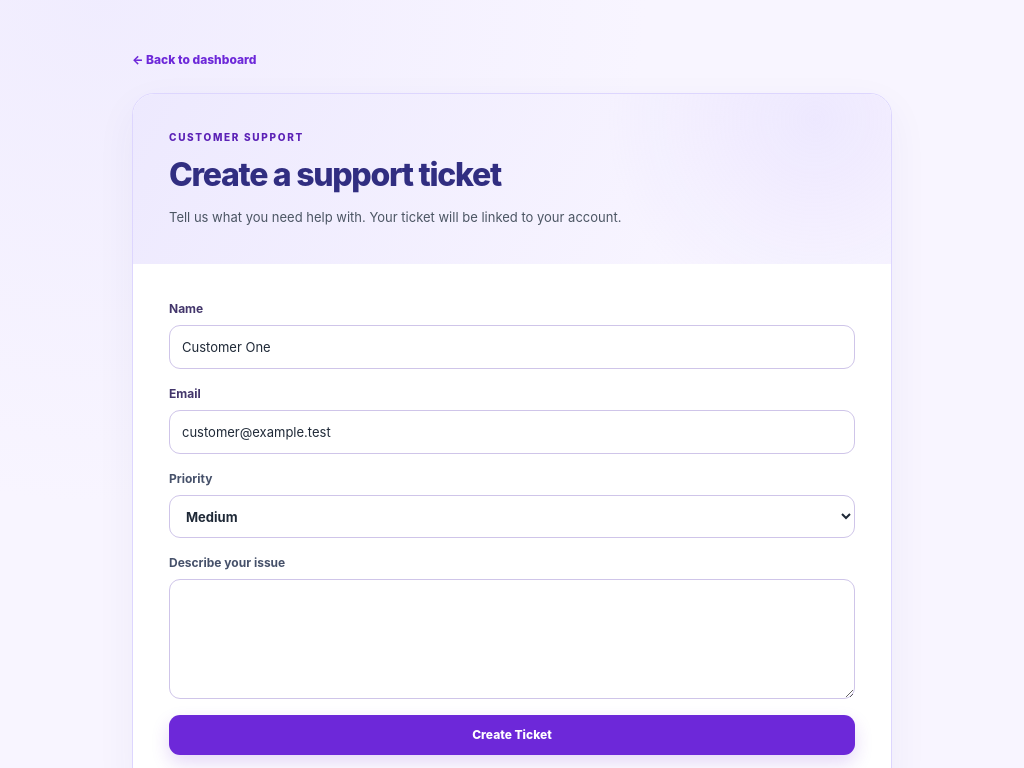
Scenario: Ticket creation page › links to the created ticket if saving its initial comment fails
In the text box labelled "Describe your issue": (512, 639) [169,579,855,699], type "I need assistance."
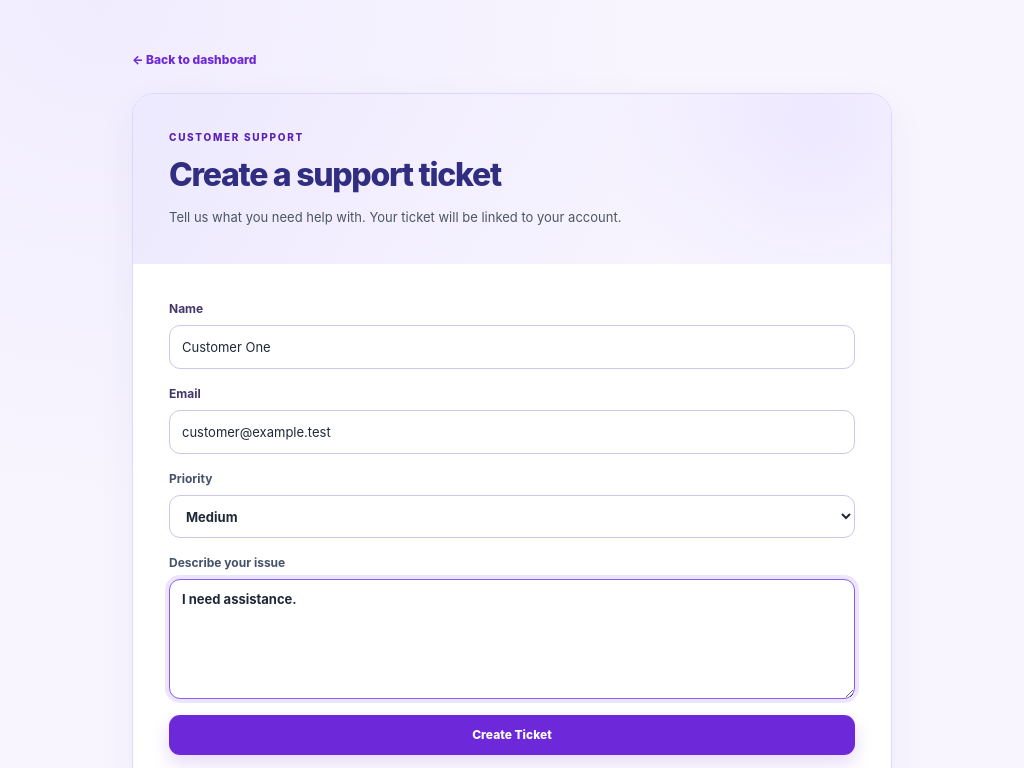
Click the button "Create Ticket": (512, 735) [169,715,855,755]
(page scrolled)
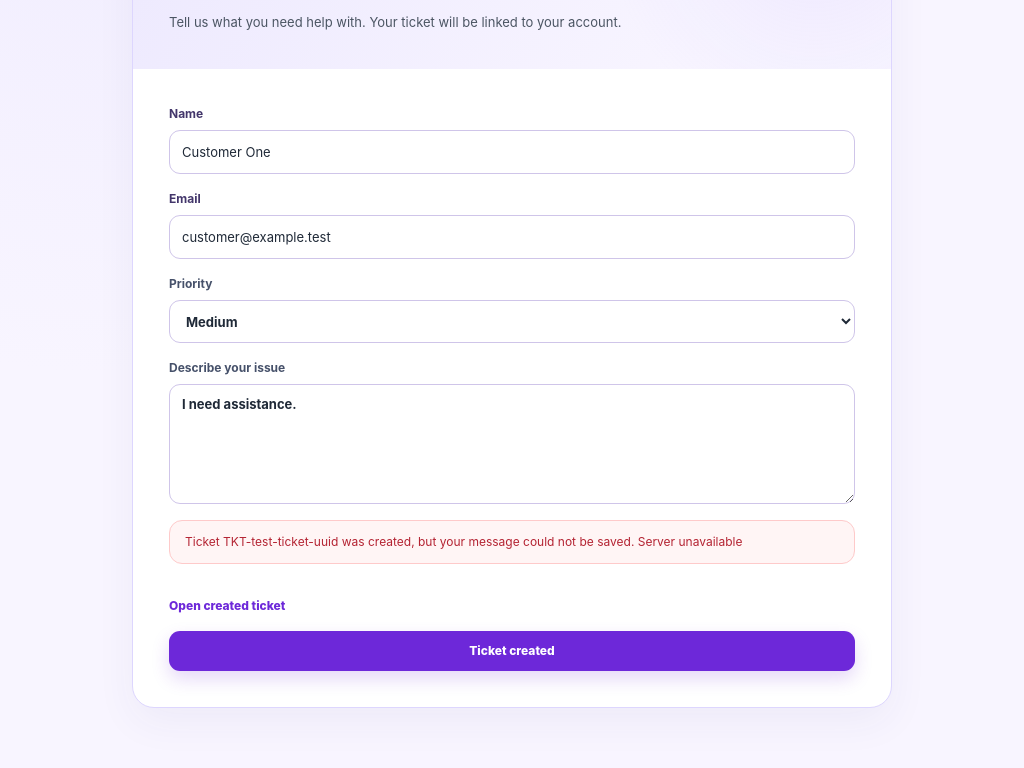
expect the text "Ticket TKT-test-ticket-uuid was created, but your message could not be saved" is shown: met, box [185,534,742,549]
expect the button "Ticket created" is disabled: met, box [169,631,855,671]
